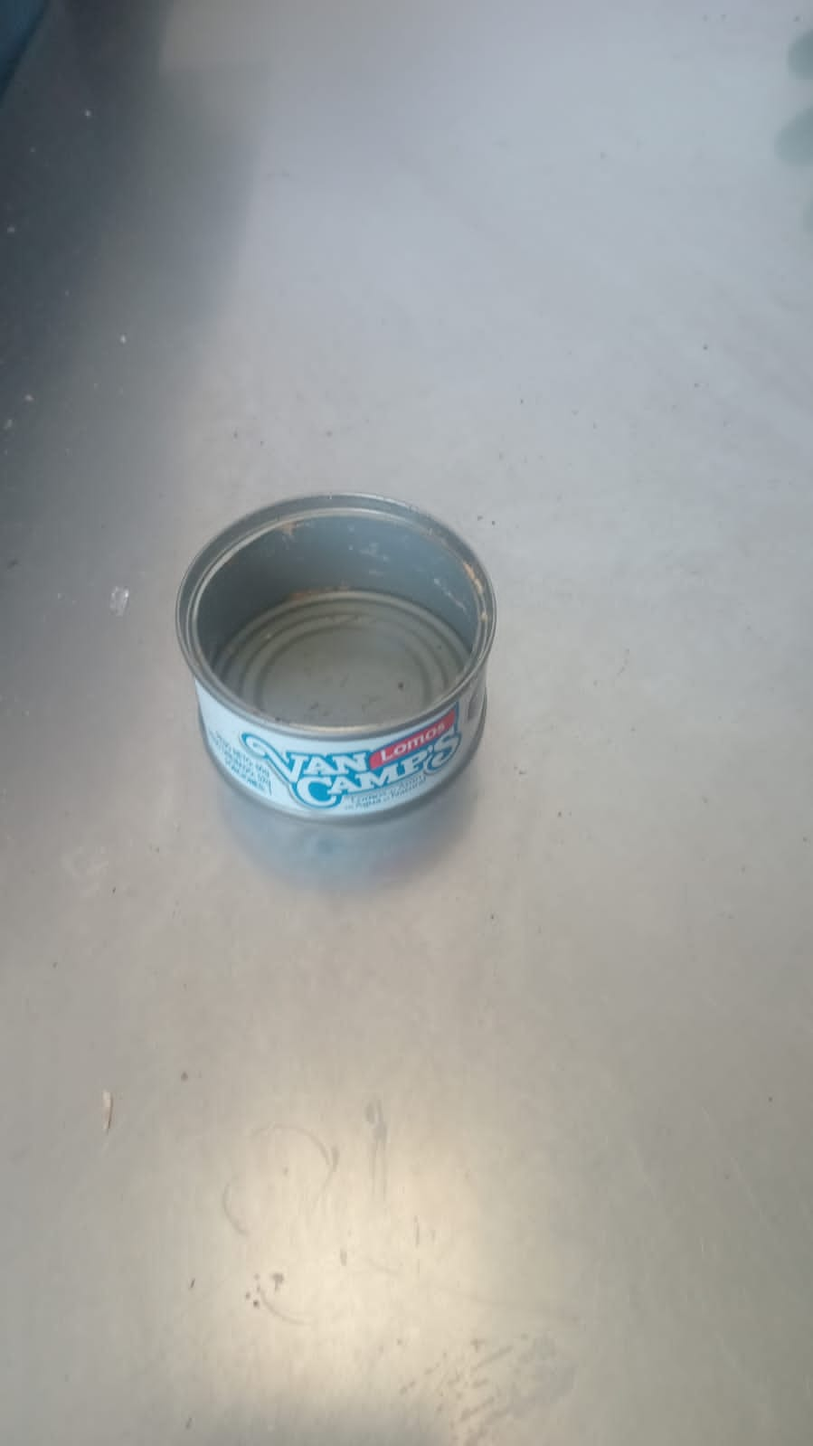Metal: (182, 492, 496, 823)
